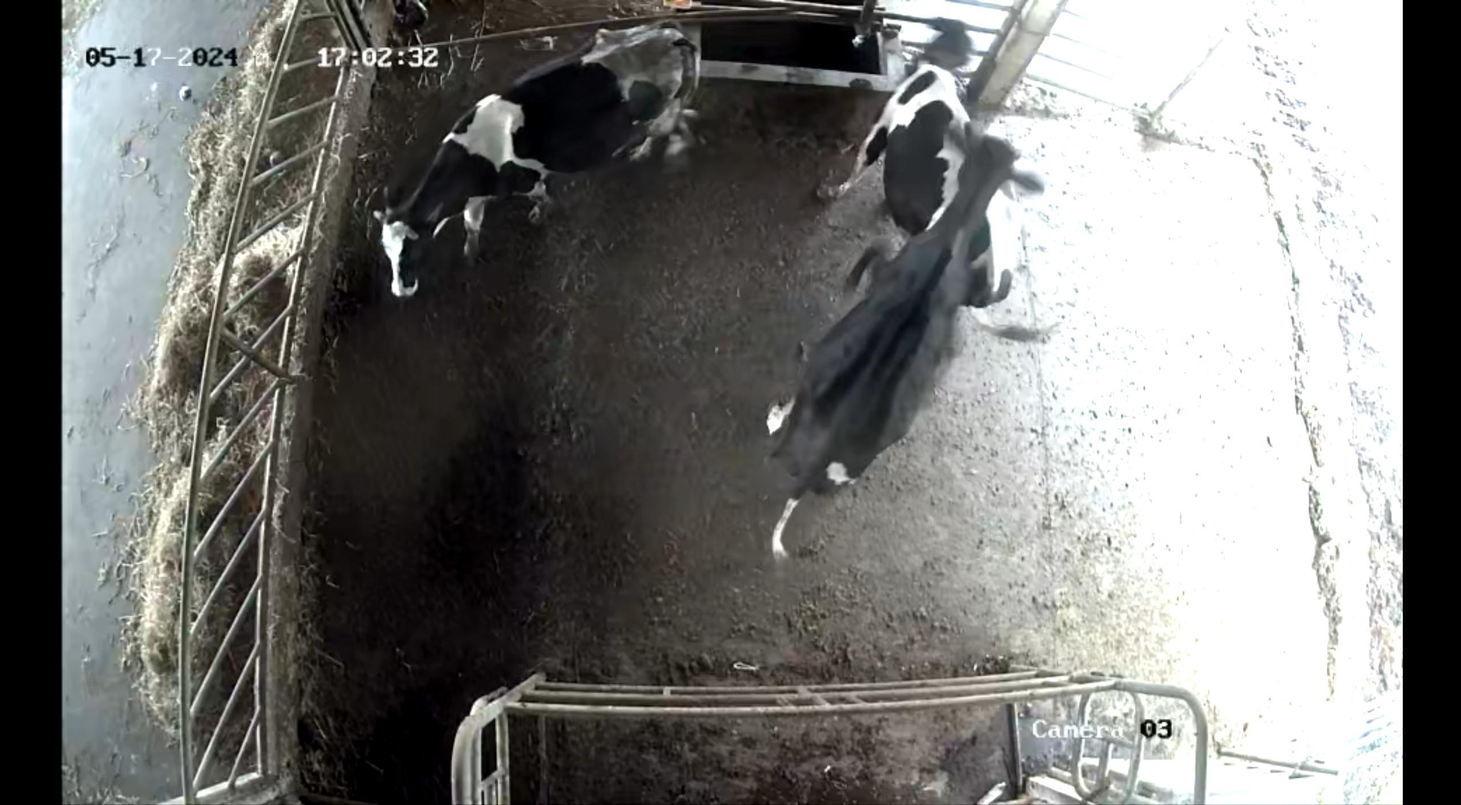ride: (748, 130, 1055, 577)
stand: (346, 18, 719, 324), (814, 16, 1023, 282)
